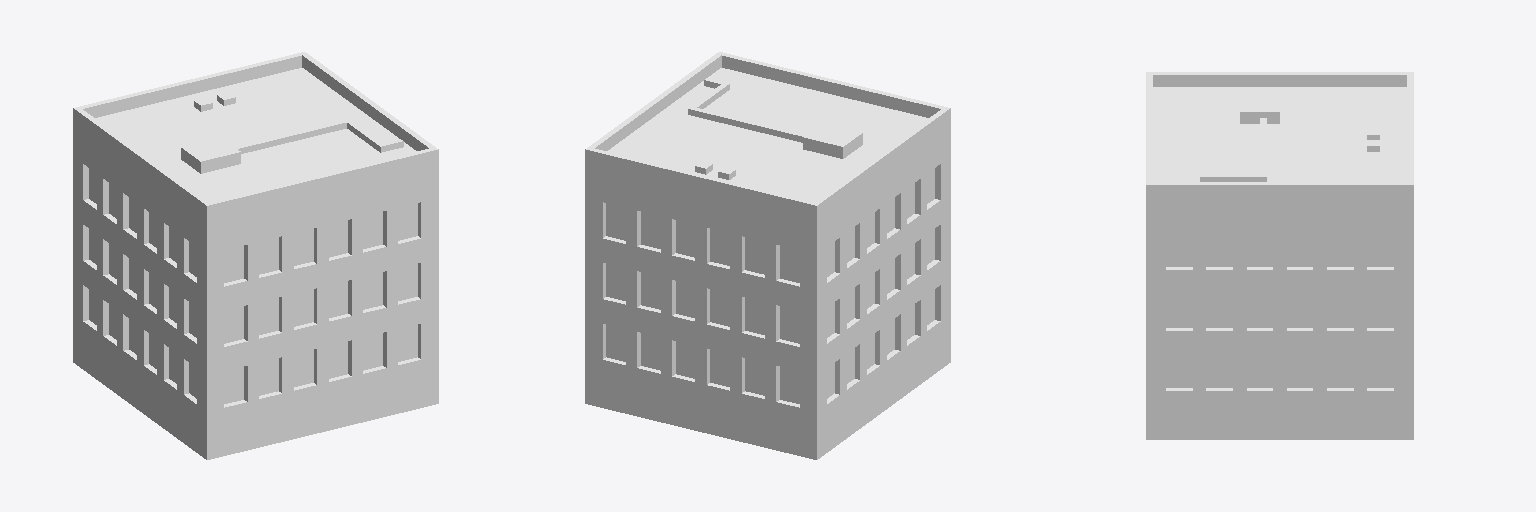
The model's file is Asset-21.obj.
3 renders of one model, left to right at view 1: azimuth 30°, elevation 25°; view 2: azimuth 150°, elevation 25°; view 3: azimuth 270°, elevation 25°, orthographic.
Visible parts, largest first — view 1: Asset-21; view 2: Asset-21; view 3: Asset-21.
Boxes of the visible parts, box(x1,y1,x2,y2) form: Asset-21: box(73, 52, 438, 459); Asset-21: box(585, 52, 950, 459); Asset-21: box(1146, 72, 1413, 439).
Bounding box in the file's own units: 40 × 42 × 40.